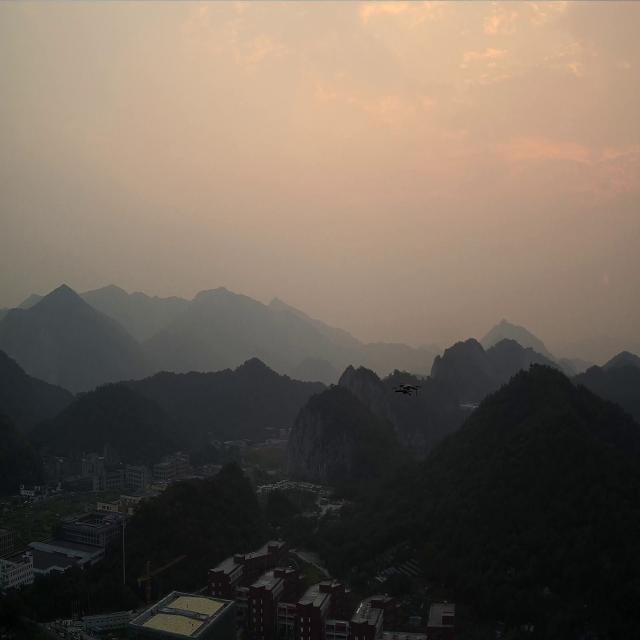drone: (391, 382, 421, 396)
